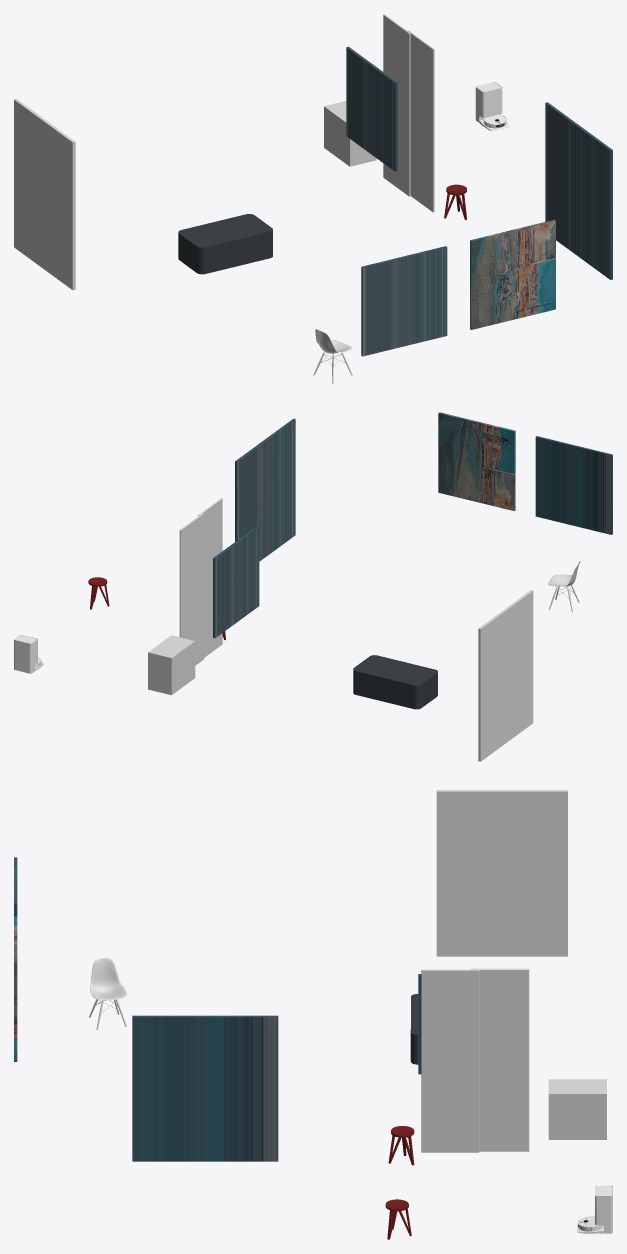
File: EG_Möbel.glb
The picture shows the model from 3 angles, top to bottom: view 1: azimuth 30°, elevation 25°; view 2: azimuth 150°, elevation 25°; view 3: azimuth 270°, elevation 25°; orthographic projection. The views are drawn at different scales.
Parts seen in each view (by area): view 1: Curve.051, Gemälde.013, Gemälde.011, Gemälde.012, Gemälde.010, _Curve.010, Curve.049, Curve.052, Curve.050, Object_2.002, 3d-model.004; view 2: Curve.051, Gemälde.012, Gemälde.011, Gemälde.013, Gemälde.010, _Curve.010, Curve.052, Curve.050, Curve.049, Object_2.002, 3d-model.004; view 3: Curve.051, Gemälde.013, Curve.049, Curve.052, Curve.050, 3d-model.004, Object_2.002, Loehr.001.
Part boxes in pixels (box(x1,y1,x2,y2)): Curve.051: box(14, 99, 75, 290); Gemälde.013: box(545, 102, 612, 279); Gemälde.011: box(361, 246, 447, 356); Gemälde.012: box(470, 219, 555, 329); Gemälde.010: box(346, 46, 397, 171); _Curve.010: box(178, 214, 272, 274); Curve.049: box(407, 30, 434, 212); Curve.052: box(383, 14, 410, 196); Curve.050: box(324, 101, 376, 166); Object_2.002: box(475, 82, 509, 130); 3d-model.004: box(313, 329, 352, 383); Curve.051: box(478, 590, 533, 761); Gemälde.012: box(438, 412, 515, 511); Gemälde.011: box(535, 436, 612, 534); Gemälde.013: box(235, 418, 295, 561); Gemälde.010: box(213, 526, 259, 638); _Curve.010: box(353, 655, 437, 709); Curve.052: box(179, 513, 204, 665); Curve.050: box(148, 635, 195, 695); Curve.049: box(198, 498, 222, 657); Object_2.002: box(14, 635, 43, 673); 3d-model.004: box(548, 561, 580, 612); Curve.051: box(436, 790, 567, 956); Gemälde.013: box(132, 1015, 278, 1161); Curve.049: box(421, 969, 479, 1152); Curve.052: box(471, 968, 529, 1151); Curve.050: box(548, 1079, 606, 1139); 3d-model.004: box(89, 957, 127, 1029); Object_2.002: box(577, 1185, 612, 1233); Loehr.001: box(388, 1126, 414, 1165).
Size of the model in its own units: 9.07 by 2.78 by 8.22.
Materials: 25 (1 with a texture image).
